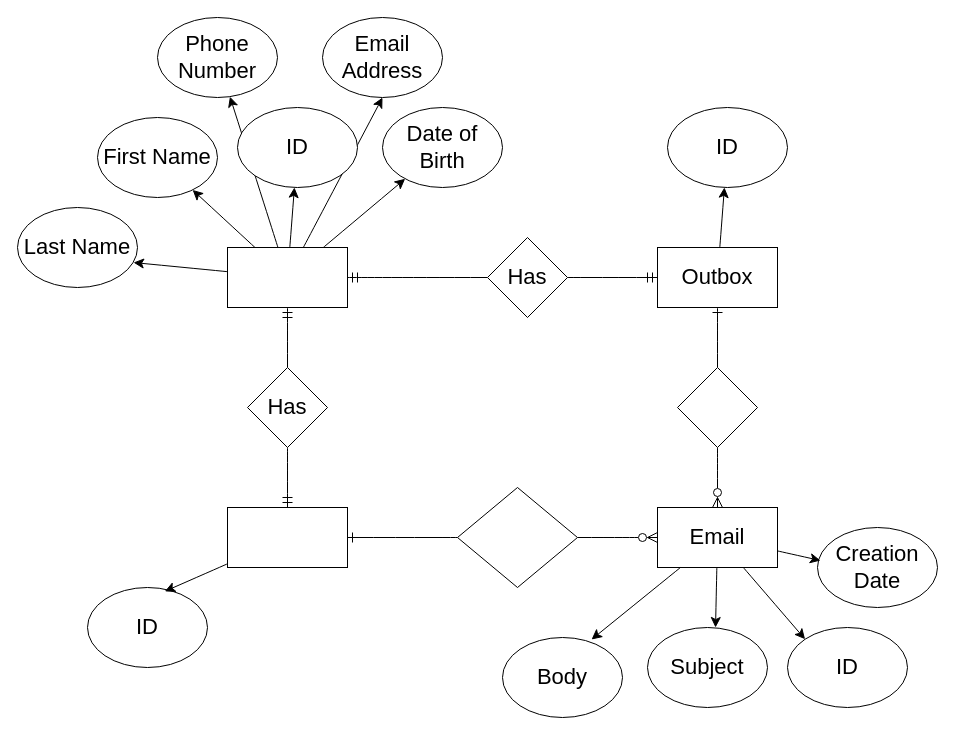
Some shapes in this 955 by 735 pixel diagram are drawn without their labels. The shapes that lost their labels are listed below. From the top down, each one's centre as x and y in pixels, then its label:
At pixel 287 277: "User".
At pixel 717 407: "Sends".
At pixel 287 537: "Inbox".
At pixel 517 537: "Receives".
